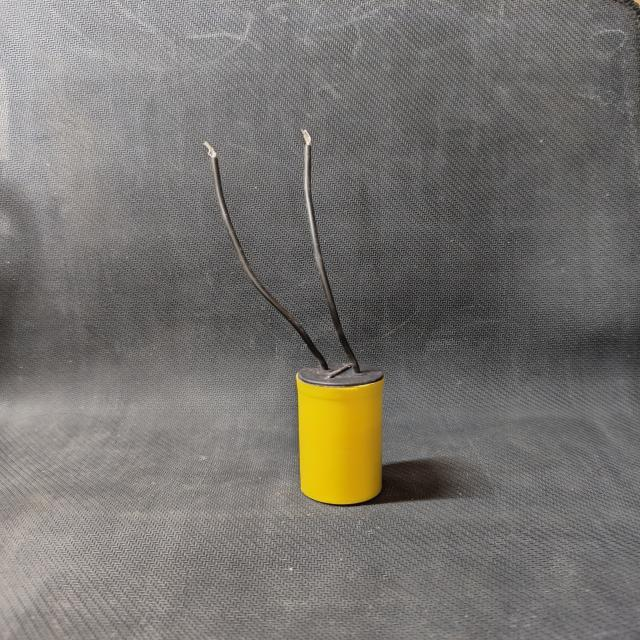capacitor: (204, 131, 384, 505)
